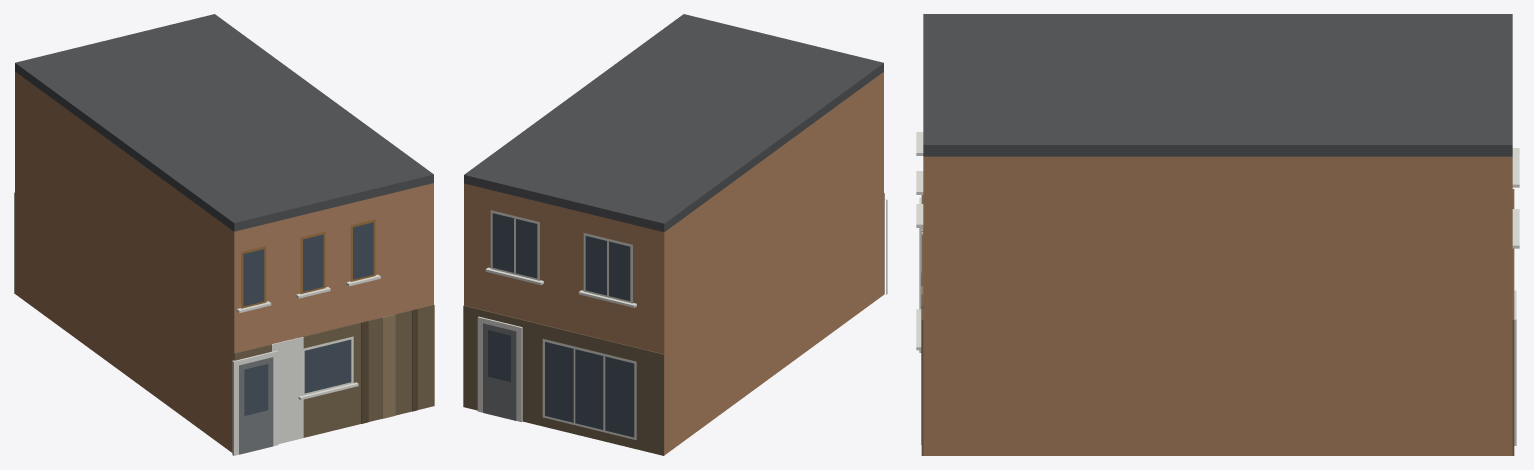
The model's file is th-kz-row__orange__2__flat__long__solid.glb.
3 views of the same model, side by side, from view 1: azimuth 30°, elevation 25°; view 2: azimuth 150°, elevation 25°; view 3: azimuth 270°, elevation 25° (orthographic). The views are drawn at different scales.
Parts seen in each view (by area): view 1: th-kz-row__orange__2__flat__long__solid; view 2: th-kz-row__orange__2__flat__long__solid; view 3: th-kz-row__orange__2__flat__long__solid.
Part boxes in pixels (x1,y1,x2,y2): th-kz-row__orange__2__flat__long__solid: (14, 14, 434, 455); th-kz-row__orange__2__flat__long__solid: (463, 14, 887, 455); th-kz-row__orange__2__flat__long__solid: (916, 14, 1519, 455).
Bounding box in the file's own units: 5.43 × 5.95 × 10.46.
